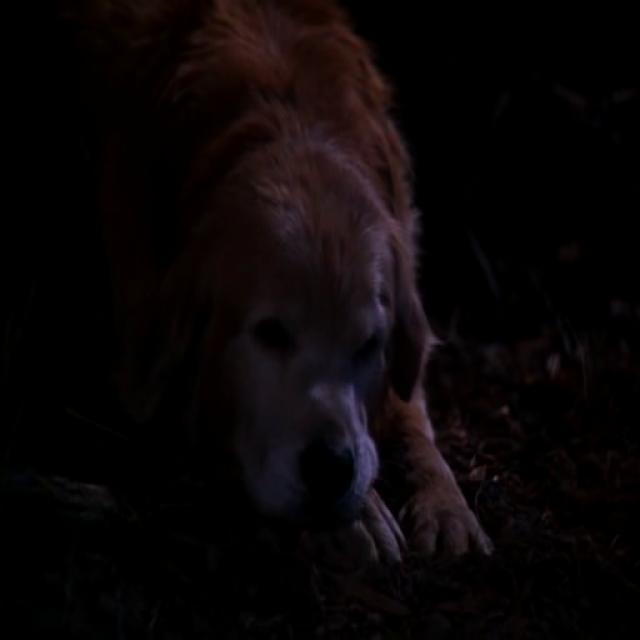Dog: (73, 0, 564, 605)
